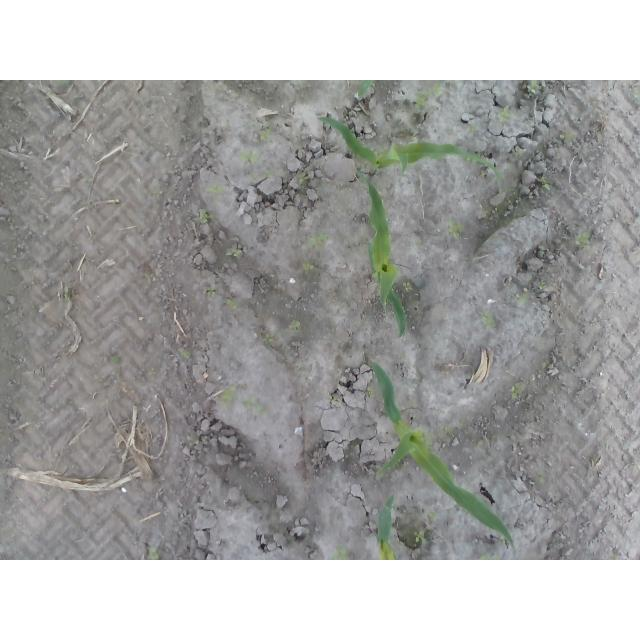Maize: (371, 360, 518, 557), (316, 112, 503, 190), (355, 170, 407, 338), (375, 495, 397, 560)
Weeds: (417, 85, 446, 108), (238, 397, 266, 417), (476, 308, 497, 329), (191, 210, 215, 227), (308, 232, 329, 251), (217, 387, 235, 408), (449, 214, 464, 238), (422, 508, 439, 528), (204, 183, 228, 197), (410, 530, 430, 546), (240, 151, 261, 166), (574, 231, 590, 249), (516, 292, 529, 313), (225, 248, 244, 260), (500, 106, 514, 122), (527, 81, 541, 97), (537, 175, 551, 190), (257, 129, 272, 143), (202, 286, 218, 299), (287, 319, 301, 333), (261, 333, 275, 347), (146, 546, 160, 560), (64, 286, 77, 301), (225, 297, 238, 311), (511, 146, 526, 158), (150, 185, 165, 197), (511, 383, 522, 399), (177, 348, 191, 358), (402, 281, 412, 295), (561, 132, 576, 141), (330, 397, 342, 408), (301, 262, 315, 271), (467, 124, 482, 132), (366, 386, 375, 399), (110, 353, 119, 363), (538, 475, 547, 484)
